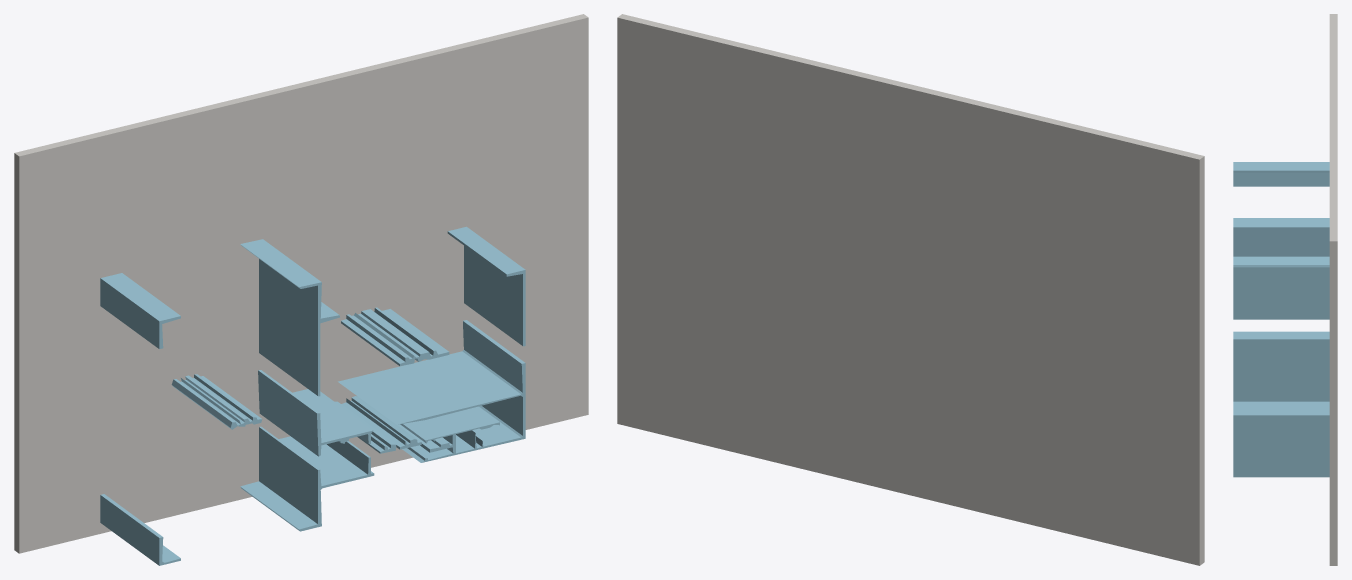
The picture shows the model from 3 angles, left to right: view 1: azimuth 30°, elevation 25°; view 2: azimuth 150°, elevation 25°; view 3: azimuth 270°, elevation 25°; orthographic projection. The views are drawn at different scales.
Parts seen in each view (by area): view 1: world; view 2: world; view 3: world.
Part boxes in pixels (x1,y1,x2,y2): world: (14,14,588,565); world: (617,14,1204,565); world: (1233,14,1337,565).
Size of the model in its own units: 10.23 by 6.82 by 1.98.
